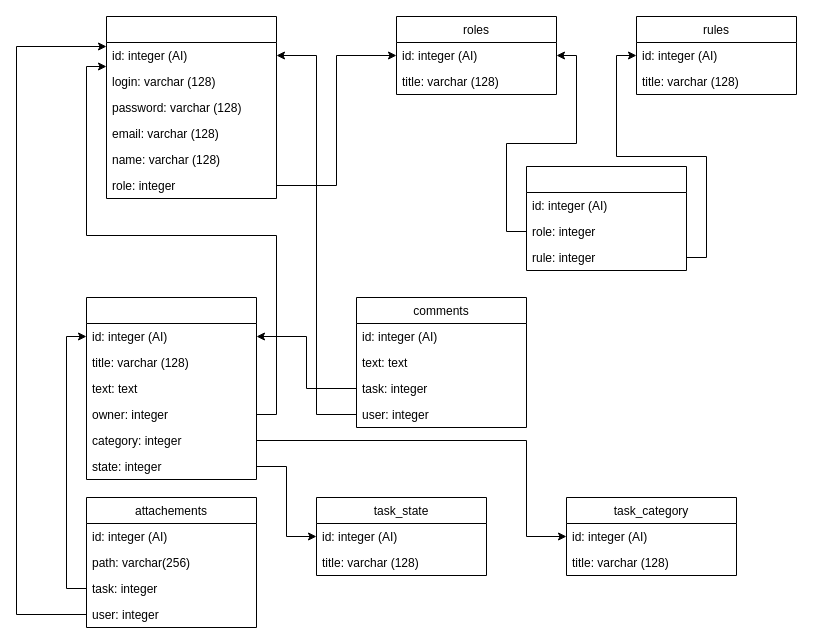
Some shapes in this 813 by 644 pixel diagram are drawn without their labels. The box of each missing label's shape, as (x1, y1, x2, y2) in pixels:
role-rule: (526, 166, 686, 270)
tasks: (86, 296, 256, 480)
users: (106, 16, 276, 198)
